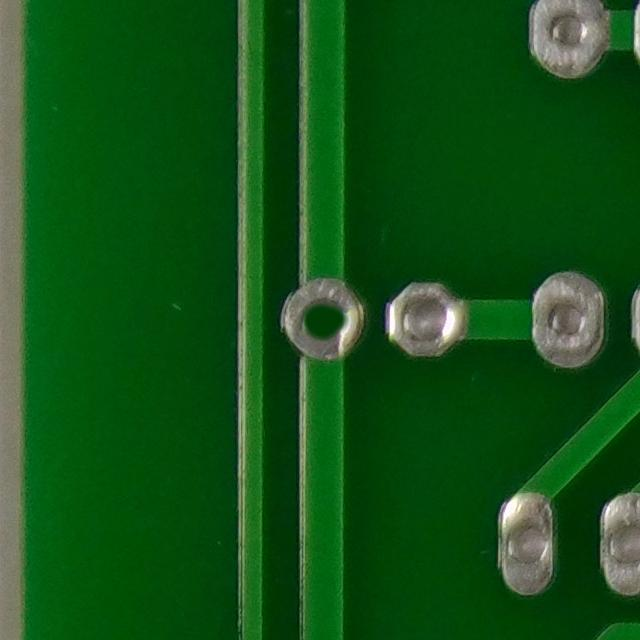missing_hole: (277, 283, 368, 362)
